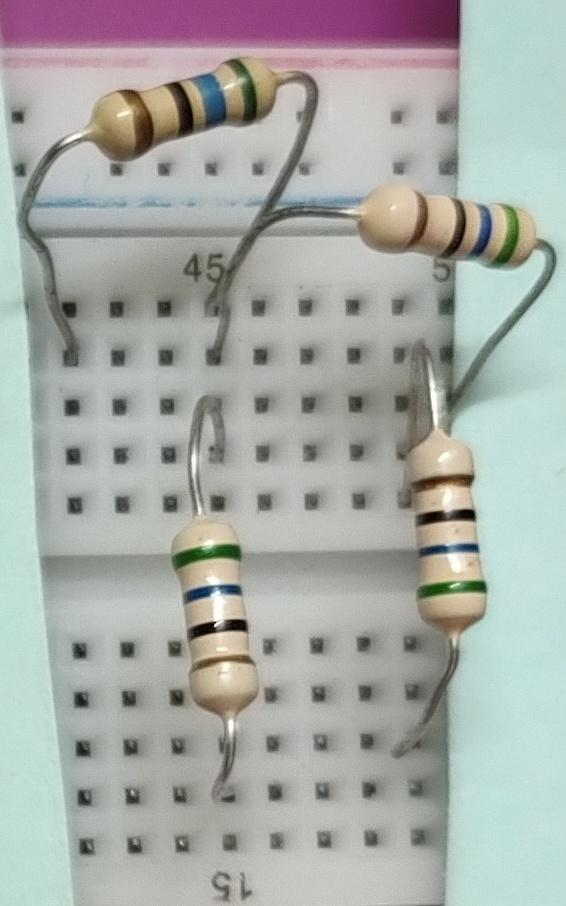resistor: (370, 417, 523, 647), (140, 510, 290, 725), (82, 45, 282, 162), (365, 172, 542, 298)
